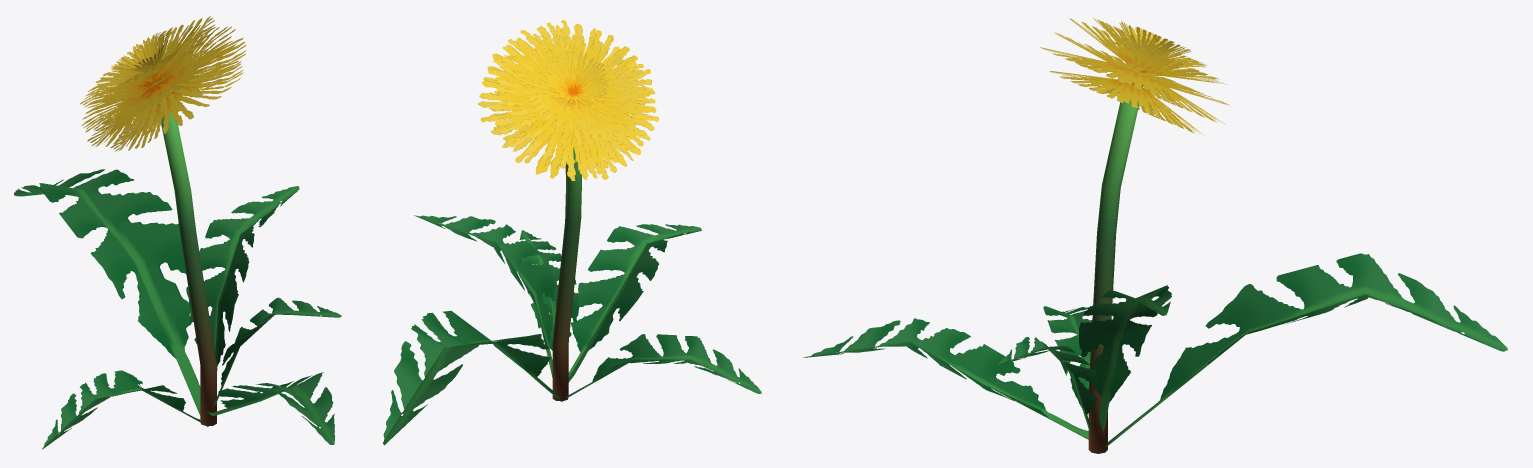
The model's file is DEMOFlowerpack_Dandelion_Small.fbx.
3 renders of one model, left to right at view 1: azimuth 30°, elevation 25°; view 2: azimuth 150°, elevation 25°; view 3: azimuth 270°, elevation 25°, orthographic. The views are drawn at different scales.
Visible parts, largest first — view 1: Dandelion_Small; view 2: Dandelion_Small; view 3: Dandelion_Small.
Boxes of the visible parts, <box> form: Dandelion_Small: <box>14,16,341,449</box>; Dandelion_Small: <box>383,20,761,445</box>; Dandelion_Small: <box>803,18,1507,453</box>.
Size of the model in its own units: 99.24 by 178 by 118.
1 material, 1 textured.
